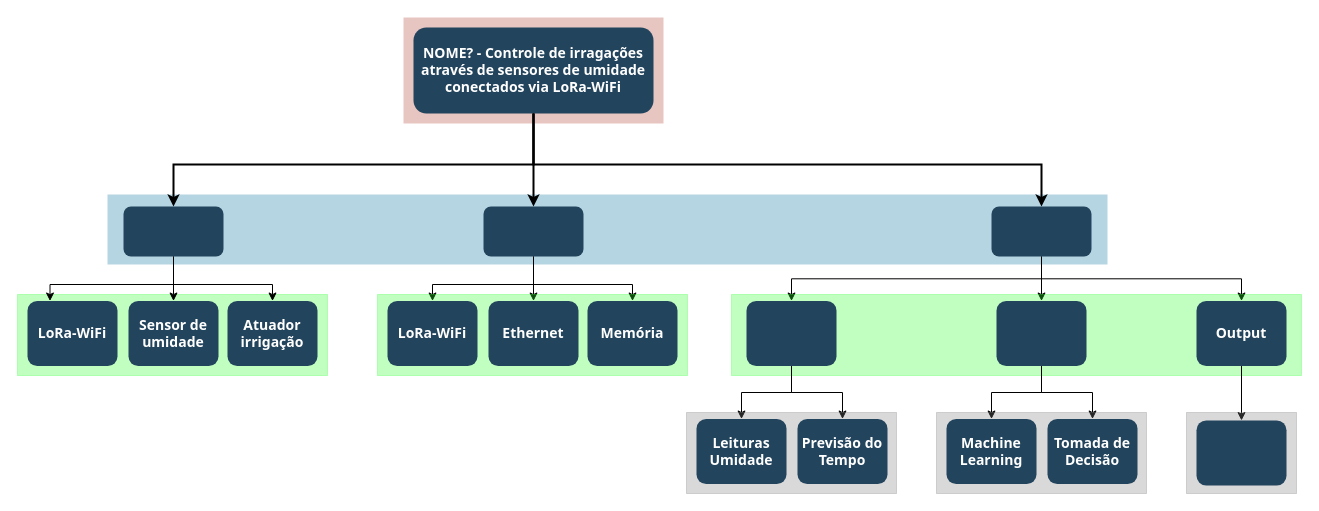
Image size: 1319x511. Some labels were removed from this diagram. The shapes that lost their labels are listed below. From the top down, each one's centre as x and y in pixels, then its label:
(x=173, y=231): Device
(x=533, y=231): Gateway
(x=1041, y=231): Cloud
(x=791, y=333): Input
(x=1041, y=333): Core
(x=1241, y=452): Ativação Irrigação
